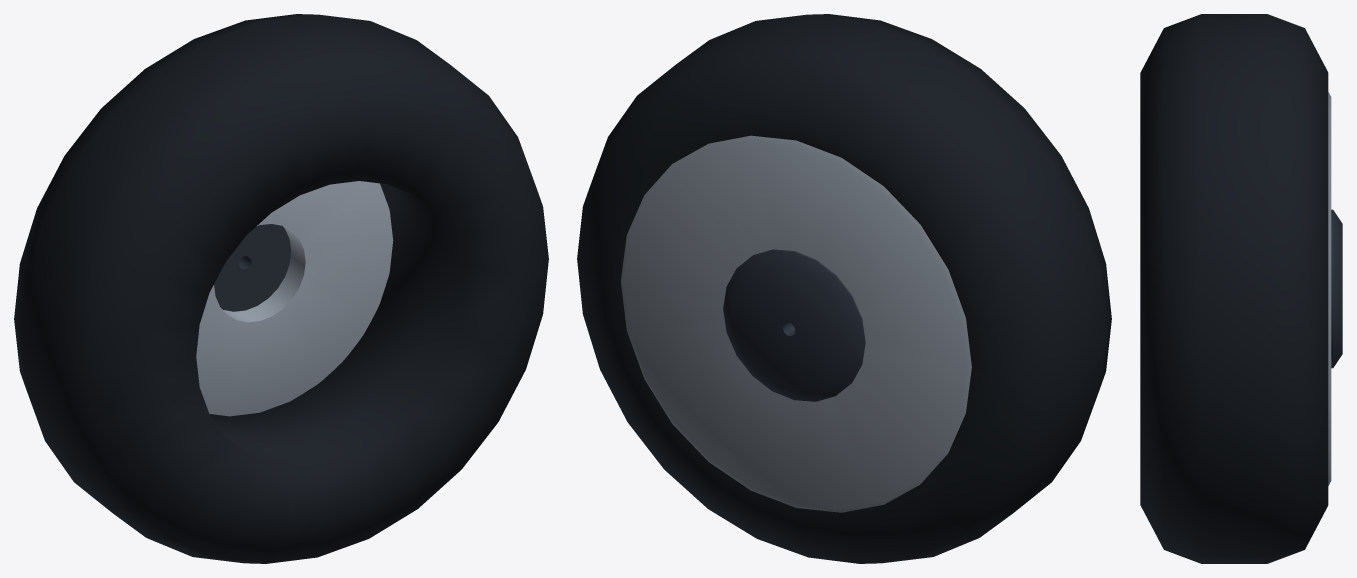
The picture shows the model from 3 angles, left to right: view 1: azimuth 30°, elevation 25°; view 2: azimuth 150°, elevation 25°; view 3: azimuth 270°, elevation 25°; orthographic projection. The views are drawn at different scales.
Visible parts, largest first — view 1: W01_WHEEL_Library_Tire, W01_WHEEL_Library_DishRim, W01_WHEEL_Library_Hub; view 2: W01_WHEEL_Library_Tire, W01_WHEEL_Library_DishRim, W01_WHEEL_Library_Hub; view 3: W01_WHEEL_Library_Tire, W01_WHEEL_Library_Hub, W01_WHEEL_Library_DishRim.
Part boxes in pixels (bbox=[...]): W01_WHEEL_Library_Tire: bbox=[14, 14, 548, 563]; W01_WHEEL_Library_DishRim: bbox=[196, 181, 393, 416]; W01_WHEEL_Library_Hub: bbox=[214, 224, 291, 311]; W01_WHEEL_Library_Tire: bbox=[577, 14, 1111, 563]; W01_WHEEL_Library_DishRim: bbox=[620, 135, 971, 512]; W01_WHEEL_Library_Hub: bbox=[723, 249, 865, 401]; W01_WHEEL_Library_Tire: bbox=[1140, 14, 1328, 563]; W01_WHEEL_Library_Hub: bbox=[1331, 209, 1342, 368]; W01_WHEEL_Library_DishRim: bbox=[1328, 92, 1331, 485].
Size of the model in its own units: 2.92 by 2.93 by 1.08.
